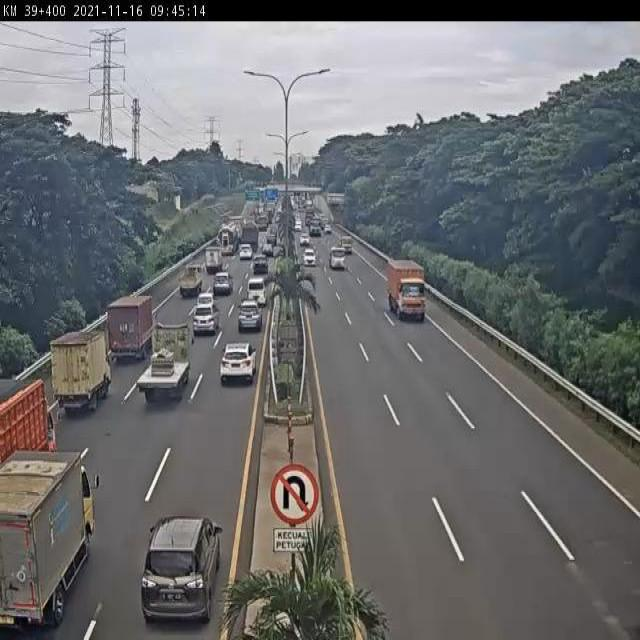car: (142, 516, 221, 624), (220, 341, 258, 384), (192, 302, 219, 334), (238, 308, 262, 339), (249, 276, 268, 307), (213, 268, 233, 296), (194, 291, 216, 313), (251, 261, 269, 279)
mid truck: (387, 257, 427, 319)
small truck: (53, 332, 109, 409), (106, 294, 155, 358), (177, 263, 203, 300), (202, 242, 221, 274)
truck-m-: (133, 323, 193, 400)
